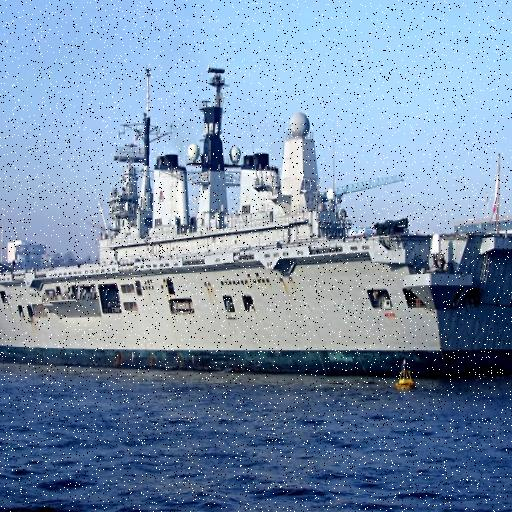Portanaves: (1, 49, 512, 377)
